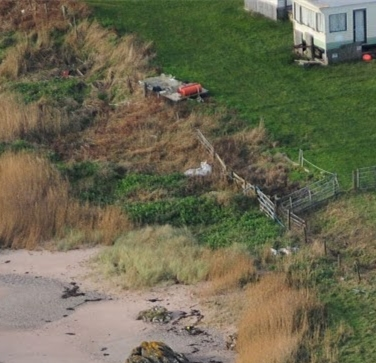cuboid: (136, 68, 213, 106)
white_in_green: (172, 142, 224, 192)
